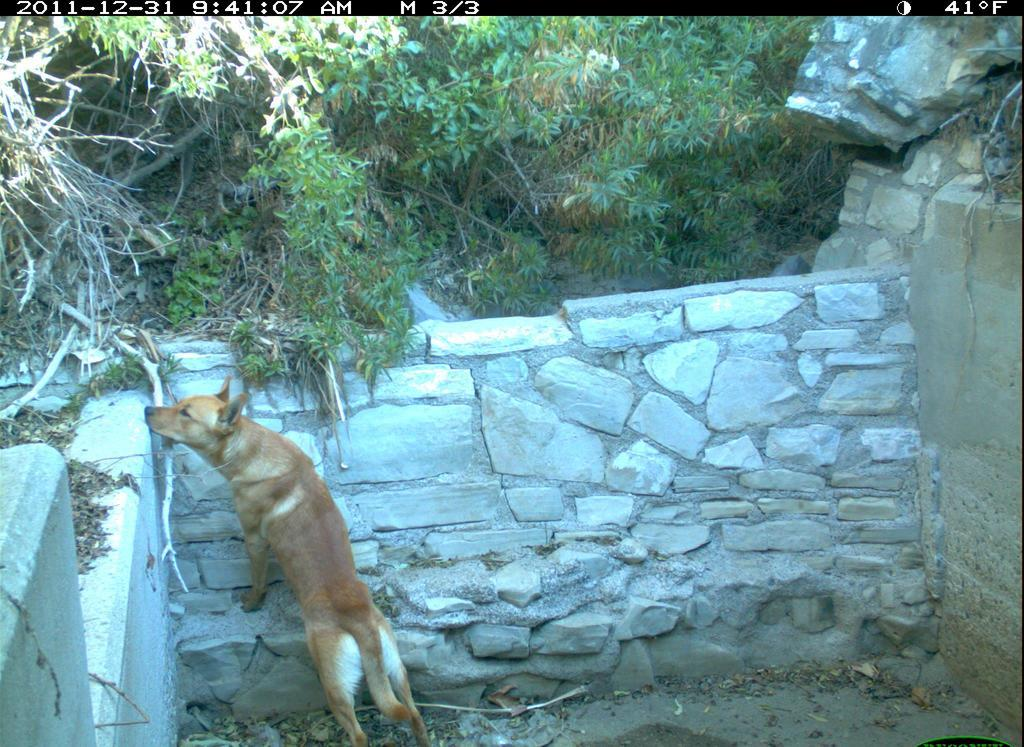dog: (143, 367, 441, 747)
